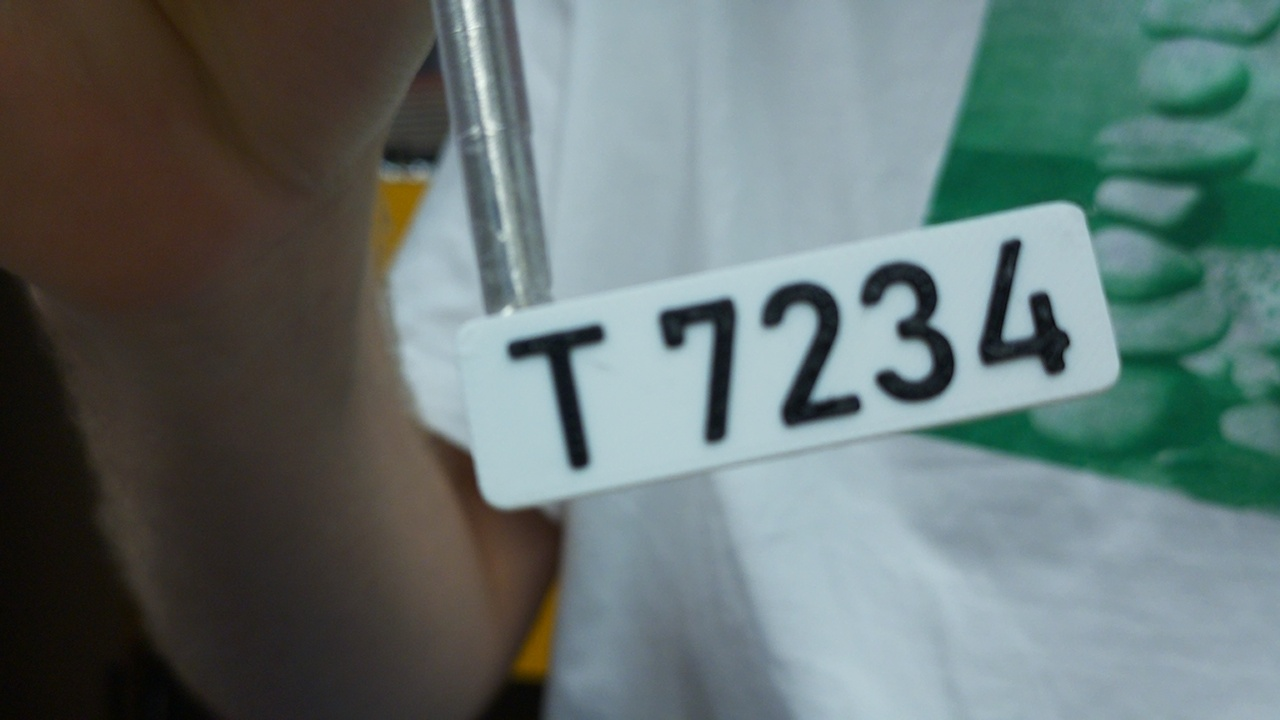license_plate: (454, 199, 1129, 510)
